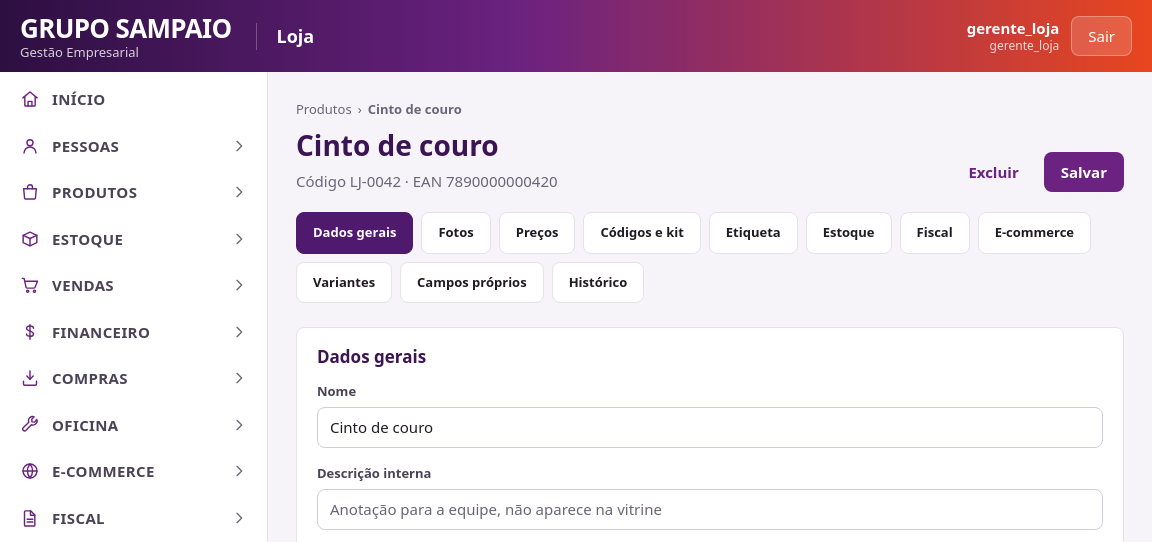
it: Excluir, na ficha do produto › 409 com histórico: diz o porquê em língua de balcão e oferece Inativar (arquivar), que grava active=false
Expected: the field showing "Cinto de couro" is shown, [317,407,1103,448]
Click the button "Excluir".
click(994, 172)  # box [951,152,1036,192]
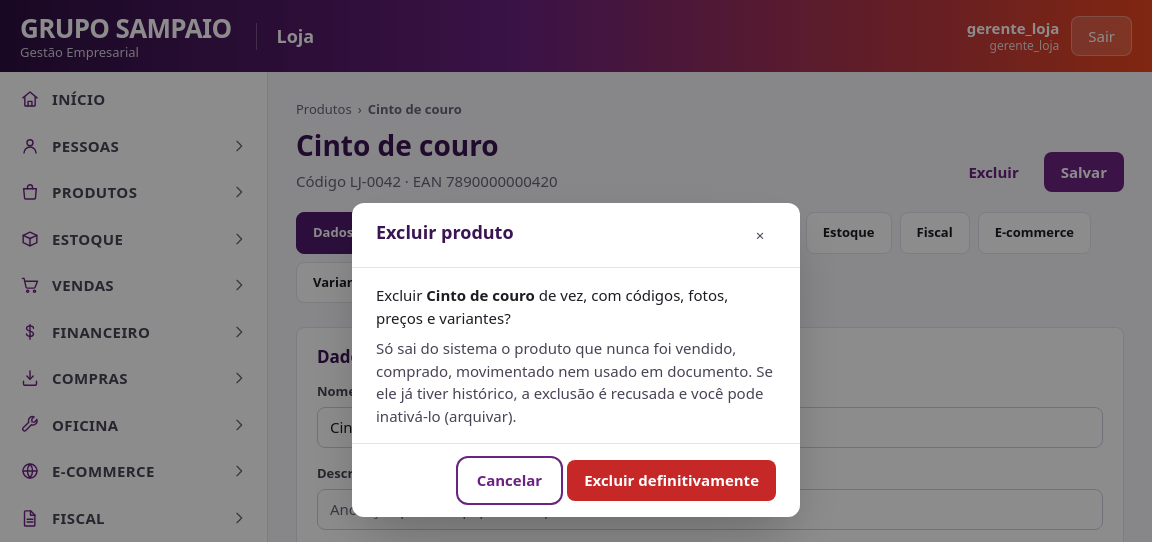
Click the button "Excluir definitivamente".
click(672, 481)  # box [567,460,776,501]
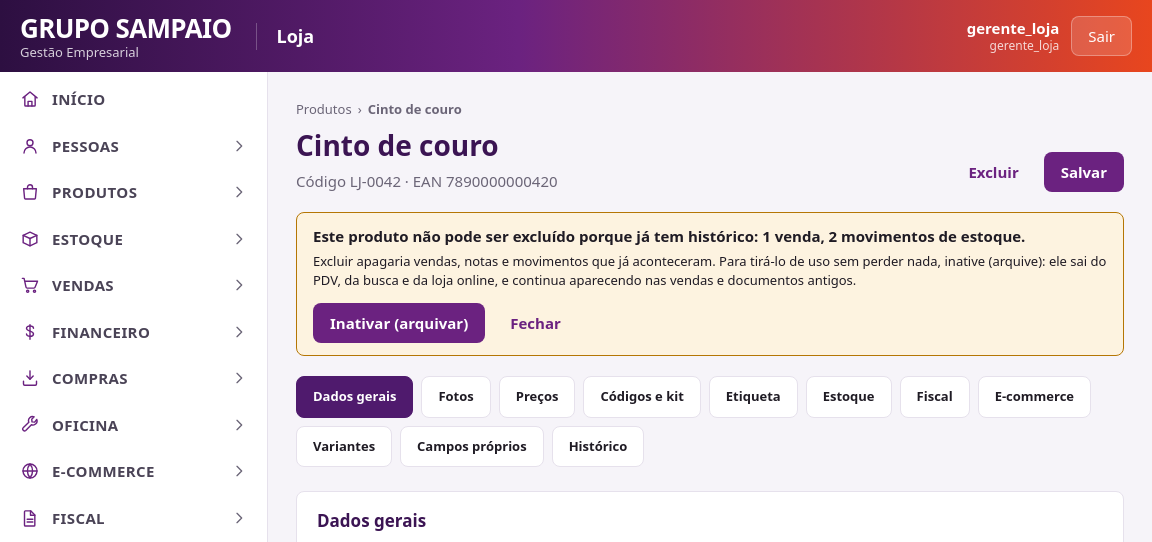
Result: the message with test id "produto-tem-historico" shows "não pode ser excluído" at [313,226,1025,246]
Result: the message with test id "produto-tem-historico" shows "1 venda" at [313,226,1025,246]
Result: the message with test id "produto-tem-historico" shows "2 movimentos de estoque" at [313,226,1025,246]
Click the button "Inativar (arquivar)".
click(399, 323)  # box [313,302,485,343]
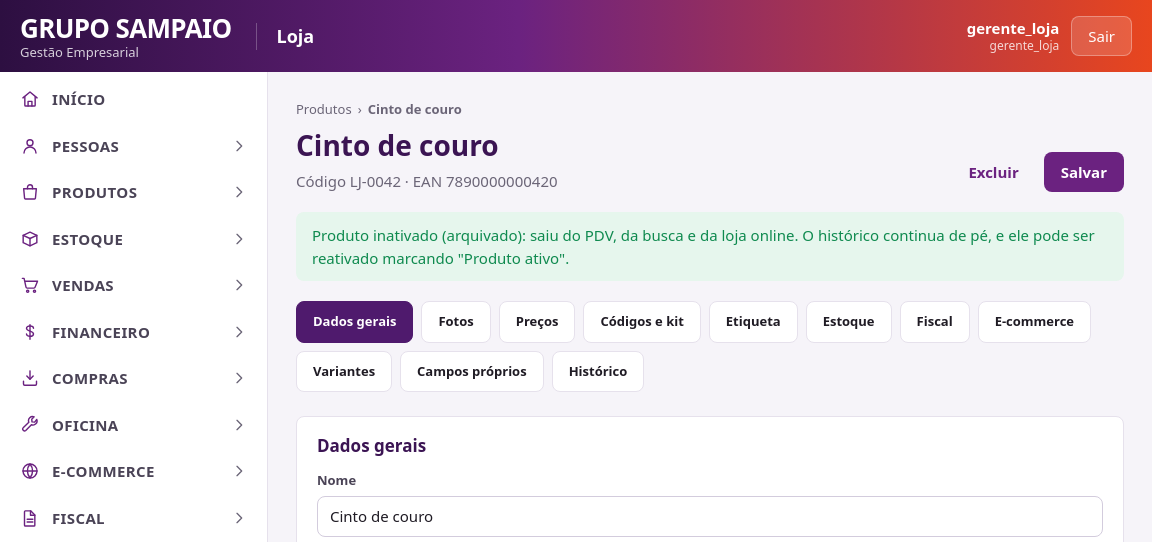
Result: the text "inativado (arquivado)" is shown at [312,225,1095,268]
